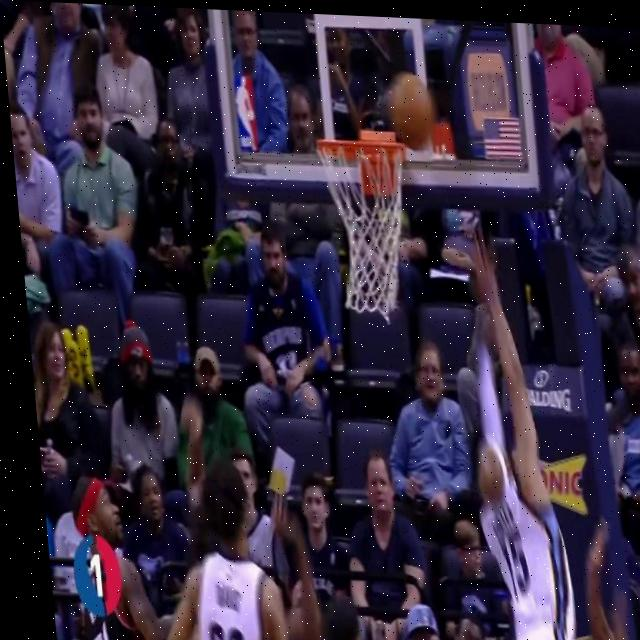rebound_hit: (385, 74, 438, 156)
